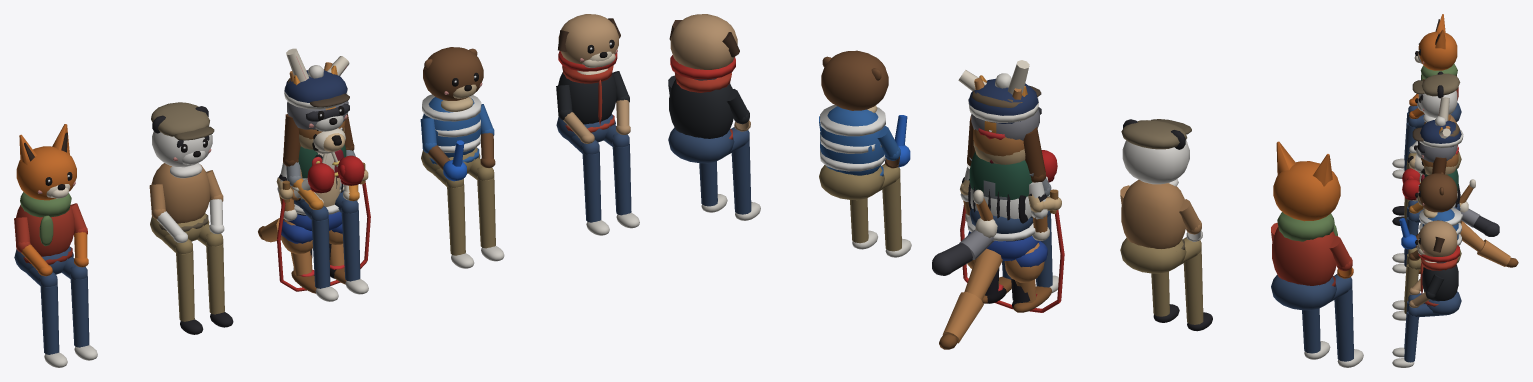
The model's file is ring_regulars.glb.
The picture shows the model from 3 angles, left to right: view 1: azimuth 30°, elevation 25°; view 2: azimuth 150°, elevation 25°; view 3: azimuth 270°, elevation 25°; orthographic projection. The views are drawn at different scales.
Parts seen in each view (by area): view 1: RingCrowd_1_Body, RingCrowd_2_Body, RingCrowd_5_Body, RingCrowd_4_Body, RingCrowd_3_Body, RingCrowd_2_Head, BagBoxer_Body, RingCrowd_1_Head, RingCrowd_5_Head, RingCrowd_4_Head, RingCrowd_3_Head, RingFan_Raccoon_Head (+15 smaller); view 2: RingCrowd_4_Body, RingCrowd_1_Body, RingCrowd_2_Body, RingCrowd_5_Body, RingCrowd_2_Head, RingCrowd_5_Head, RingCrowd_1_Head, RingCrowd_4_Head, BagBoxer_Body, BagBoxer_Tail, RingCrowd_3_Head, Referee_Head (+13 smaller); view 3: RingCrowd_5_Body, RingCrowd_5_Head, RingCrowd_2_Head, RingCrowd_4_Body, RingCrowd_1_Head, RingCrowd_4_Head, RingCrowd_1_Body, BagBoxer_Tail, RingCrowd_3_Head, RingFan_Raccoon_Head, RingCrowd_3_Body, RingFan_Raccoon_Tail (+12 smaller).
Boxes of the visible parts, bbox=[...] form: RingCrowd_1_Body: bbox=[14, 192, 97, 367]; RingCrowd_2_Body: bbox=[150, 163, 233, 334]; RingCrowd_5_Body: bbox=[556, 65, 639, 235]; RingCrowd_4_Body: bbox=[421, 94, 504, 268]; RingCrowd_3_Body: bbox=[294, 190, 368, 301]; RingCrowd_2_Head: bbox=[151, 102, 214, 167]; BagBoxer_Body: bbox=[281, 176, 346, 293]; RingCrowd_1_Head: bbox=[16, 124, 76, 200]; RingCrowd_5_Head: bbox=[558, 14, 620, 71]; RingCrowd_4_Head: bbox=[423, 47, 483, 100]; RingCrowd_3_Head: bbox=[284, 65, 347, 127]; RingFan_Raccoon_Head: bbox=[287, 70, 349, 131]; RingCrowd_4_Body: bbox=[819, 105, 911, 257]; RingCrowd_1_Body: bbox=[1271, 212, 1363, 367]; RingCrowd_2_Body: bbox=[1120, 179, 1212, 331]; RingCrowd_5_Body: bbox=[668, 72, 760, 220]; RingCrowd_2_Head: bbox=[1121, 119, 1191, 184]; RingCrowd_5_Head: bbox=[669, 14, 739, 79]; RingCrowd_1_Head: bbox=[1273, 141, 1340, 221]; RingCrowd_4_Head: bbox=[821, 50, 888, 110]; BagBoxer_Body: bbox=[967, 215, 1051, 312]; BagBoxer_Tail: bbox=[939, 248, 1002, 349]; RingCrowd_3_Head: bbox=[968, 73, 1038, 133]; Referee_Head: bbox=[967, 115, 1045, 182]; RingCrowd_5_Body: bbox=[1392, 258, 1461, 367]; RingCrowd_5_Head: bbox=[1415, 220, 1459, 262]; RingCrowd_2_Head: bbox=[1412, 71, 1460, 117]; RingCrowd_4_Body: bbox=[1392, 207, 1461, 320]; RingCrowd_1_Head: bbox=[1414, 14, 1457, 70]; RingCrowd_4_Head: bbox=[1415, 172, 1457, 212]; RingCrowd_1_Body: bbox=[1392, 63, 1461, 178]; BagBoxer_Tail: bbox=[1460, 220, 1518, 267]; RingCrowd_3_Head: bbox=[1416, 116, 1463, 158]; RingFan_Raccoon_Head: bbox=[1412, 121, 1459, 162]; RingCrowd_3_Body: bbox=[1392, 191, 1460, 273]; RingFan_Raccoon_Tail: bbox=[1460, 209, 1499, 236].
Bounding box in the file's own units: 4.06 × 1.49 × 1.02.
